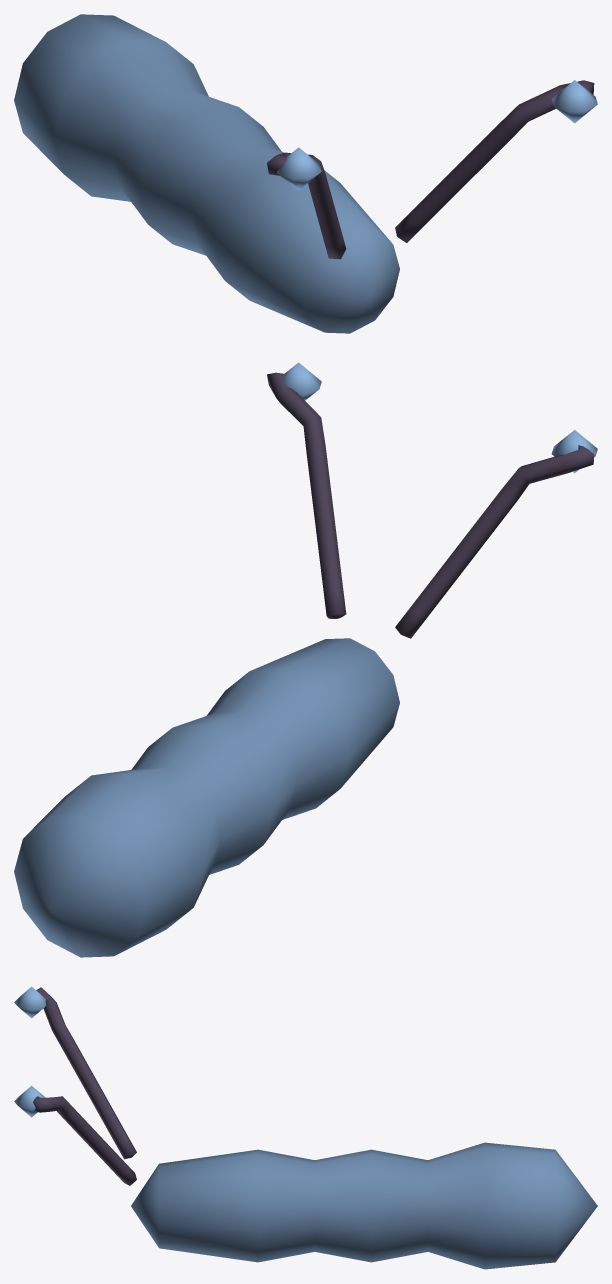
File: SH_Fly_Body_Blue.fbx
3 renders of one model, top to bottom at view 1: azimuth 30°, elevation 25°; view 2: azimuth 150°, elevation 25°; view 3: azimuth 270°, elevation 25°, orthographic. The views are drawn at different scales.
Parts seen in each view (by area): view 1: SH_Fly_Body_Blue; view 2: SH_Fly_Body_Blue; view 3: SH_Fly_Body_Blue.
Boxes of the visible parts, box(x1,y1,x2,y2) form: SH_Fly_Body_Blue: box(14, 14, 597, 333); SH_Fly_Body_Blue: box(14, 362, 597, 957); SH_Fly_Body_Blue: box(14, 986, 597, 1269).
Size of the model in its own units: 0.0393 by 0.0355 by 0.0825.
